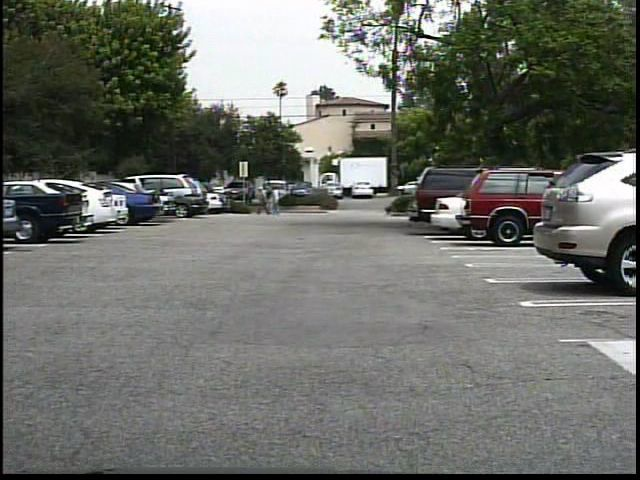person: (255, 185, 270, 217), (271, 186, 285, 218), (265, 185, 278, 216)
